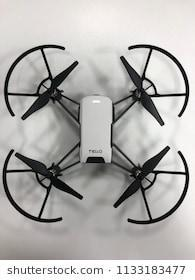drone: (0, 41, 195, 226)
